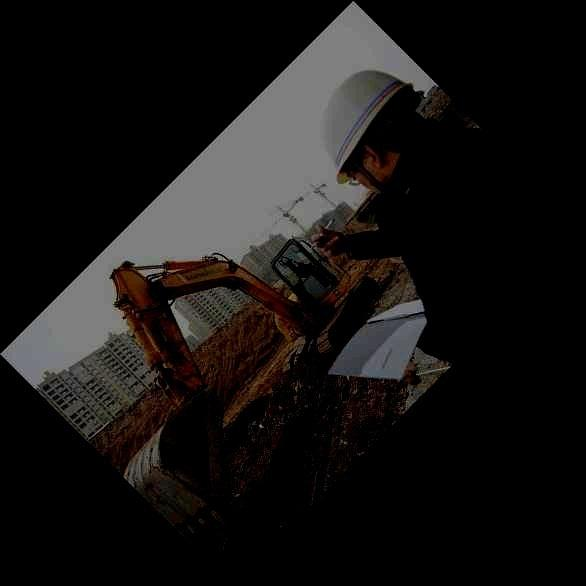helmet: (318, 70, 426, 196)
